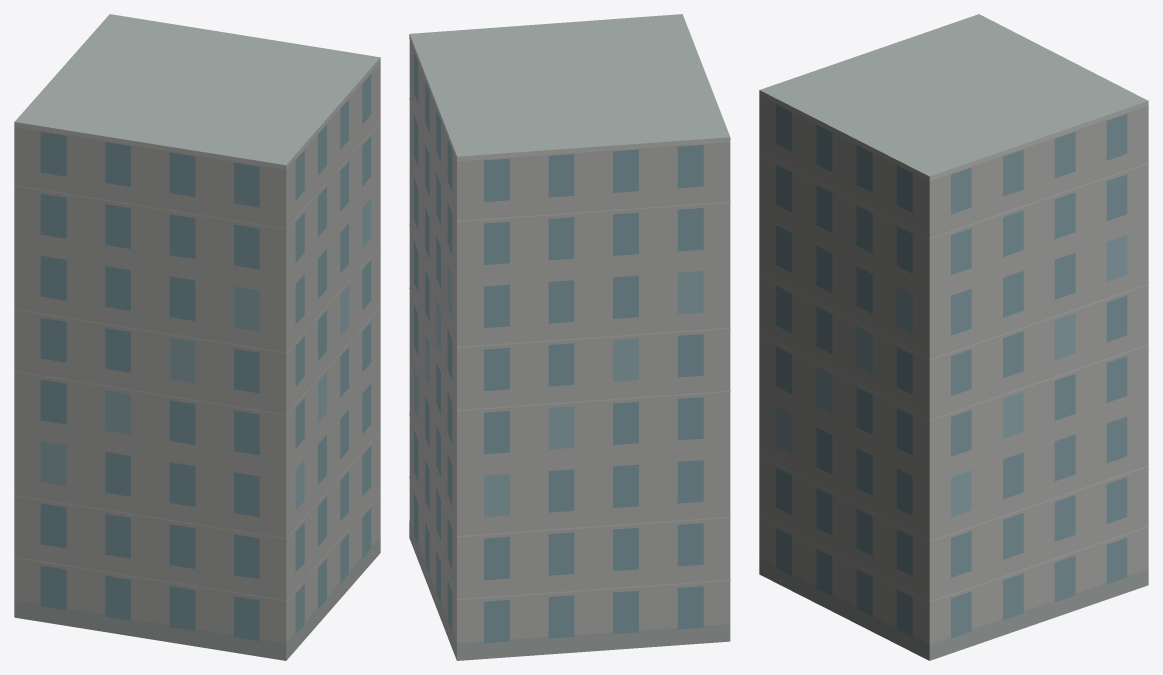
File: survey-upis-32938866.glb
3 renders of one model, left to right at view 1: azimuth 30°, elevation 25°; view 2: azimuth 150°, elevation 25°; view 3: azimuth 270°, elevation 25°, orthographic. The views are drawn at different scales.
Visible parts, largest first — view 1: survey-upis-32938866.tmp; view 2: survey-upis-32938866.tmp; view 3: survey-upis-32938866.tmp.
Boxes of the visible parts, <box> form: survey-upis-32938866.tmp: <box>14,14,380,660</box>; survey-upis-32938866.tmp: <box>409,14,730,660</box>; survey-upis-32938866.tmp: <box>759,14,1148,660</box>.
Bounding box in the file's own units: 18.26 × 25.35 × 18.48.
